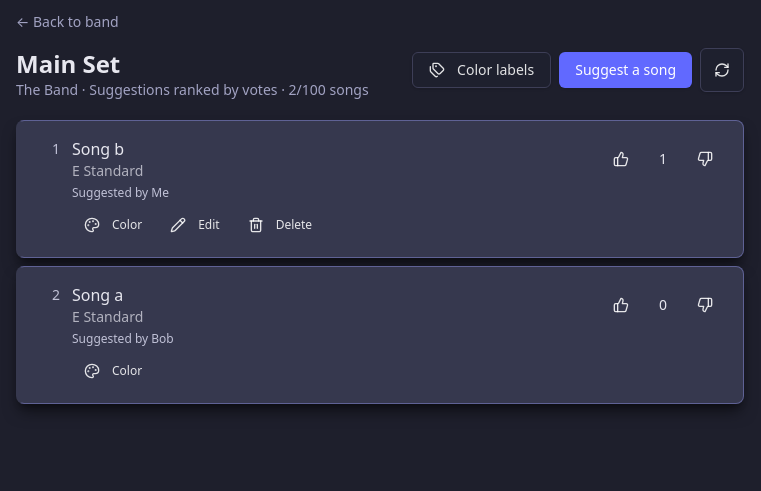
Test case: SetListPage › a failed vote reverts the optimistic change and says so
The width and height of the screenshot is (761, 491).
Check: the text "Song a" is shown, box [72,284,123,306]
What coordinates should you click on to do the following:
click the button named "Upvote Song a"
I would click on:
 (621, 305)
Its box is [599,283,643,327].
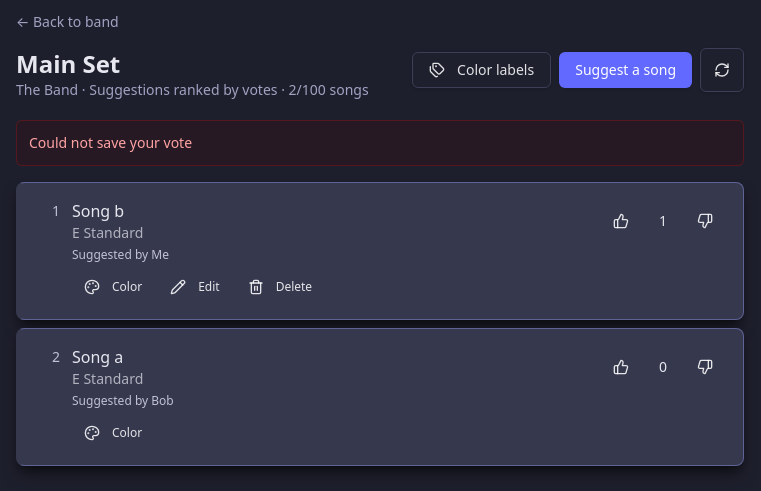
Check: the message named "Score" reads "0", box [659,357,667,376]
Check: the message "Could not save your vote" is shown, box [16,120,744,166]
